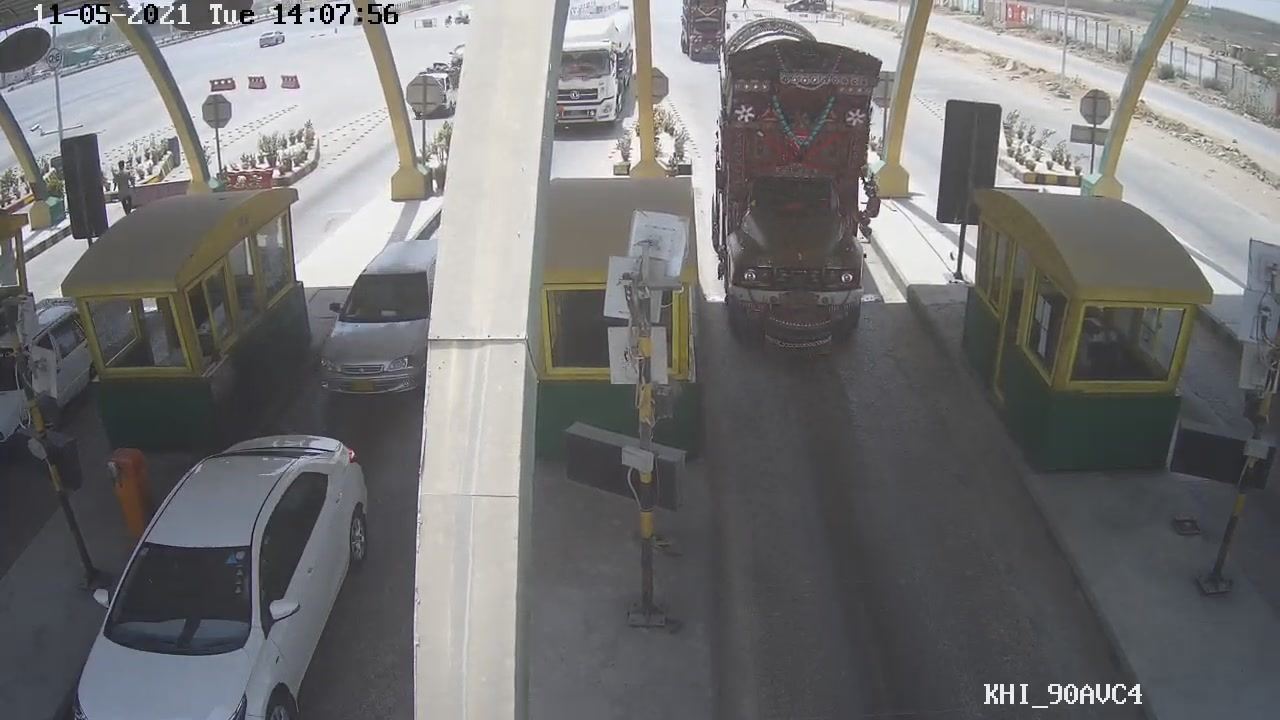F5: (710, 37, 887, 360)
